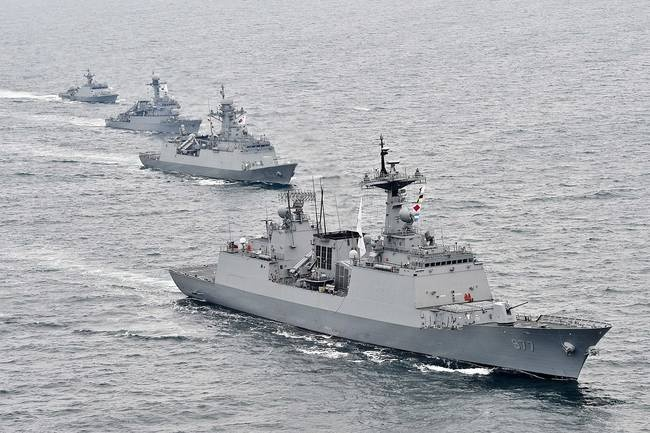warship: (166, 136, 618, 386), (131, 95, 294, 185), (109, 70, 207, 142), (51, 69, 133, 108)
